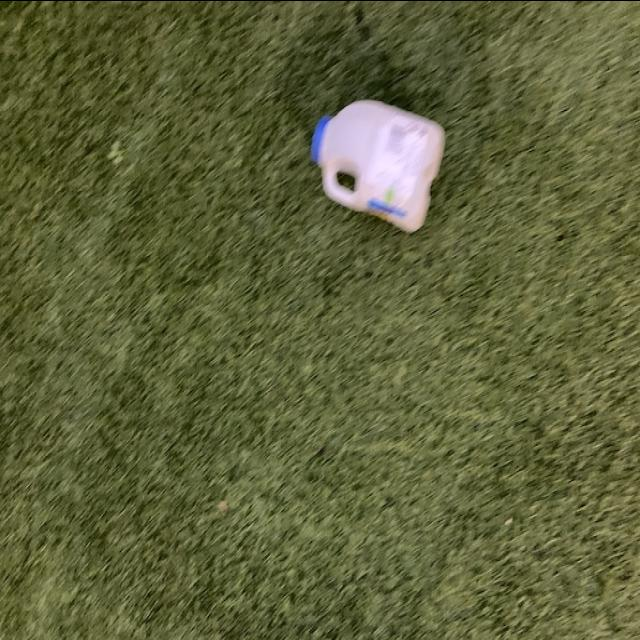litter: (306, 91, 454, 239)
